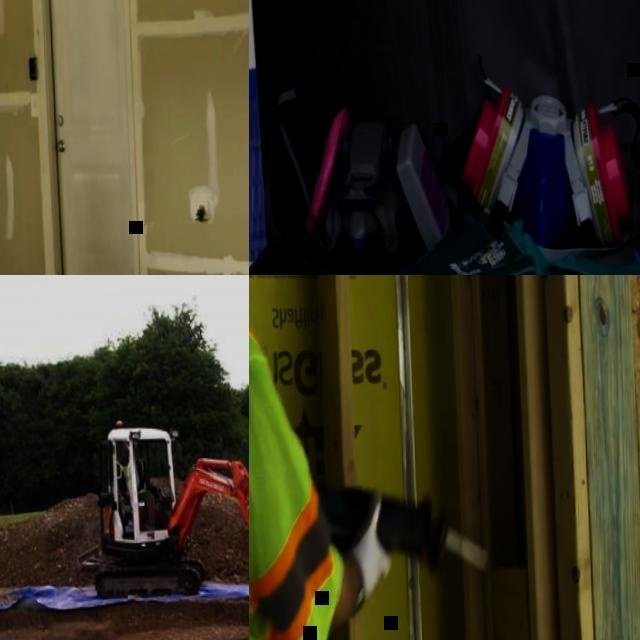Hardhat: (124, 440, 138, 450)
Mask: (453, 79, 634, 254), (295, 99, 454, 275)
Person: (249, 275, 395, 640), (118, 438, 162, 524)
Safety Vest: (249, 275, 338, 640), (118, 456, 145, 496)
machinery: (88, 417, 249, 640)
